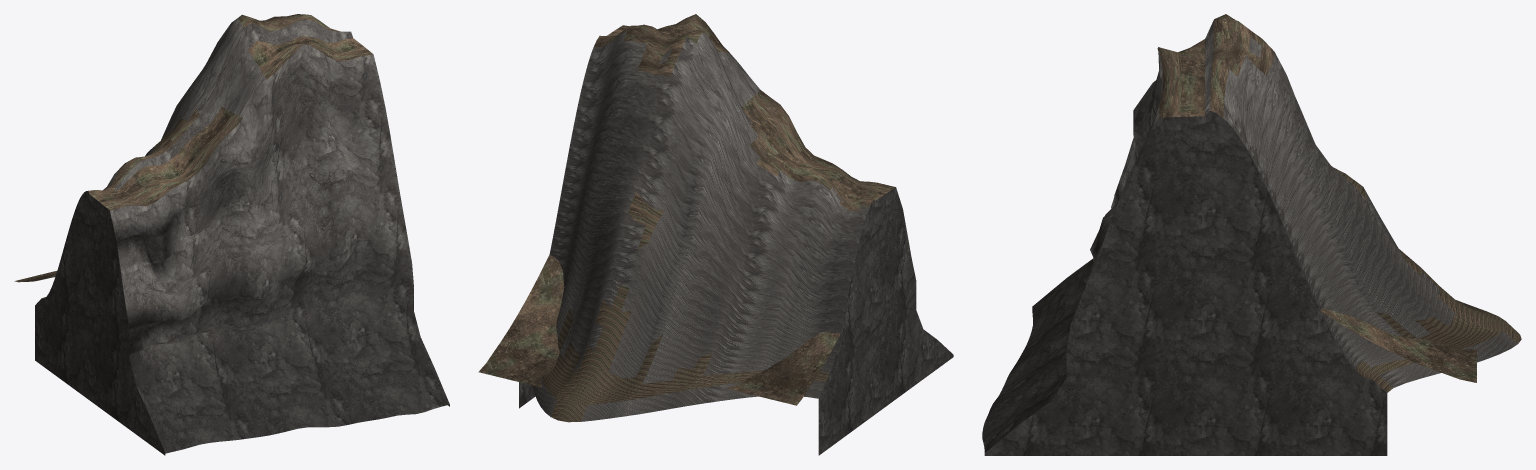
The model's file is seacliff_step_h3h5_v5_autumn.glb.
The picture shows the model from 3 angles, left to right: view 1: azimuth 30°, elevation 25°; view 2: azimuth 150°, elevation 25°; view 3: azimuth 270°, elevation 25°; orthographic projection. The views are drawn at different scales.
Visible parts, largest first — view 1: seacliff_step_h3h5; view 2: seacliff_step_h3h5; view 3: seacliff_step_h3h5.
Part boxes in pixels (x1,y1,x2,y2): seacliff_step_h3h5: (14, 14, 449, 455); seacliff_step_h3h5: (478, 14, 953, 455); seacliff_step_h3h5: (982, 14, 1521, 455).
Bounding box in the file's own units: 6 × 7.32 × 9.33.
2 materials, 2 textured.
